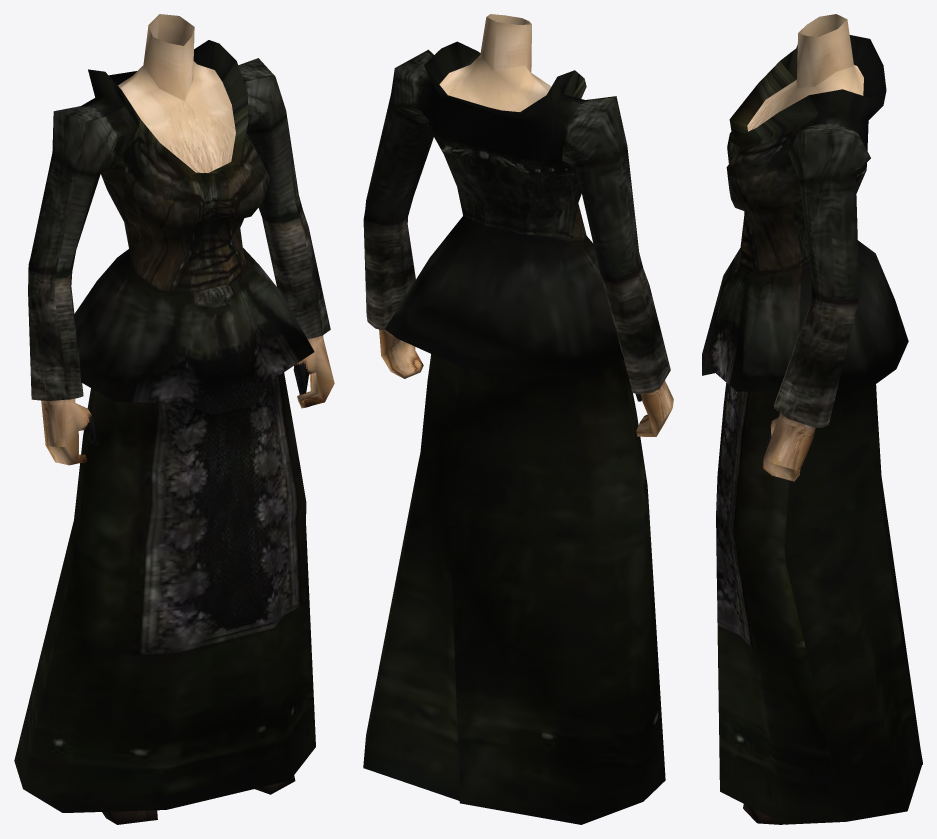
The model's file is ARMOR_KM_VLKBABE_03.glb.
The picture shows the model from 3 angles, left to right: view 1: azimuth 30°, elevation 25°; view 2: azimuth 150°, elevation 25°; view 3: azimuth 270°, elevation 25°; orthographic projection.
Visible parts, largest first — view 1: ARMOR_KM_VLKBABE_03; view 2: ARMOR_KM_VLKBABE_03; view 3: ARMOR_KM_VLKBABE_03.
Boxes of the visible parts, x1,y1,x2,y2 form: ARMOR_KM_VLKBABE_03: [14, 14, 334, 824]; ARMOR_KM_VLKBABE_03: [363, 14, 673, 824]; ARMOR_KM_VLKBABE_03: [702, 14, 922, 824].
Size of the model in its own units: 0.6681 by 1.68 by 0.4406.
Materials: 2 (2 with a texture image).
